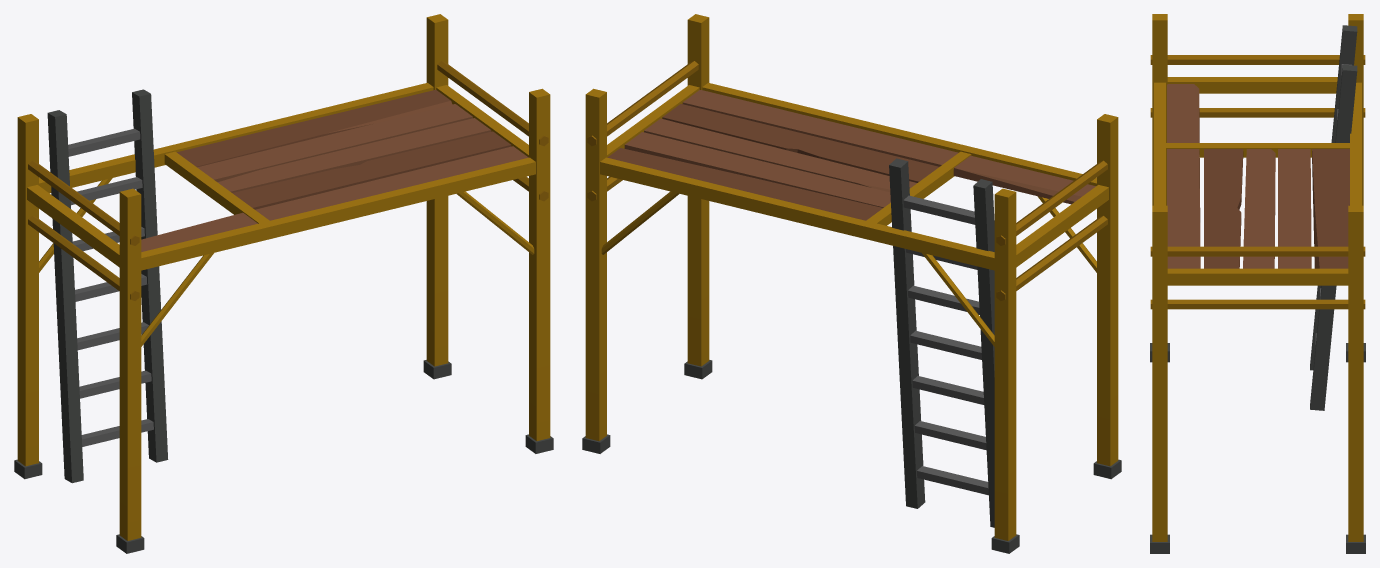
The model's file is SM_Props_Scaffolding_02.glb.
3 views of the same model, side by side, from view 1: azimuth 30°, elevation 25°; view 2: azimuth 150°, elevation 25°; view 3: azimuth 270°, elevation 25° (orthographic). The views are drawn at different scales.
Visible parts, largest first — view 1: SM_Props_Scaffolding_02; view 2: SM_Props_Scaffolding_02; view 3: SM_Props_Scaffolding_02.
Part boxes in pixels (bbox=[...]): SM_Props_Scaffolding_02: bbox=[14, 14, 553, 553]; SM_Props_Scaffolding_02: bbox=[582, 14, 1121, 553]; SM_Props_Scaffolding_02: bbox=[1150, 14, 1365, 553].
Size of the model in its own units: 3.15 by 2.51 by 1.43.
Materials: 1 (1 with a texture image).
